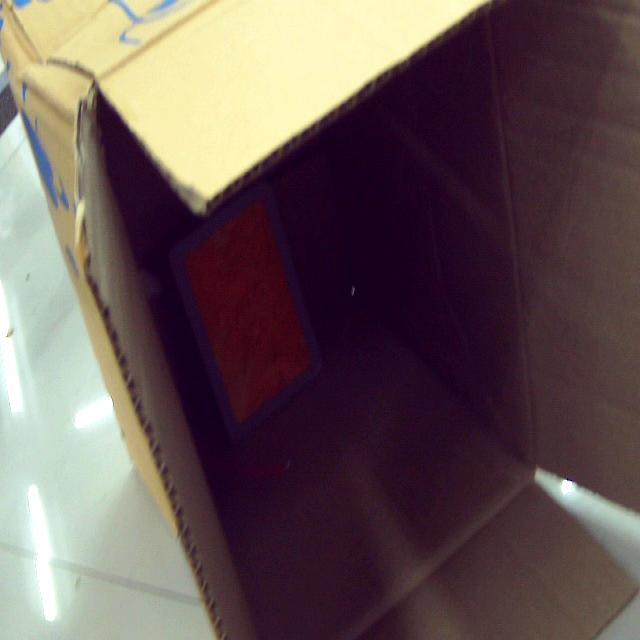block: (167, 187, 324, 443)
